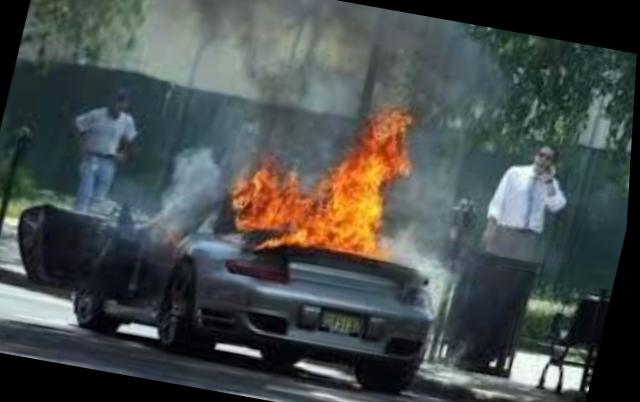fire: (223, 83, 439, 267)
